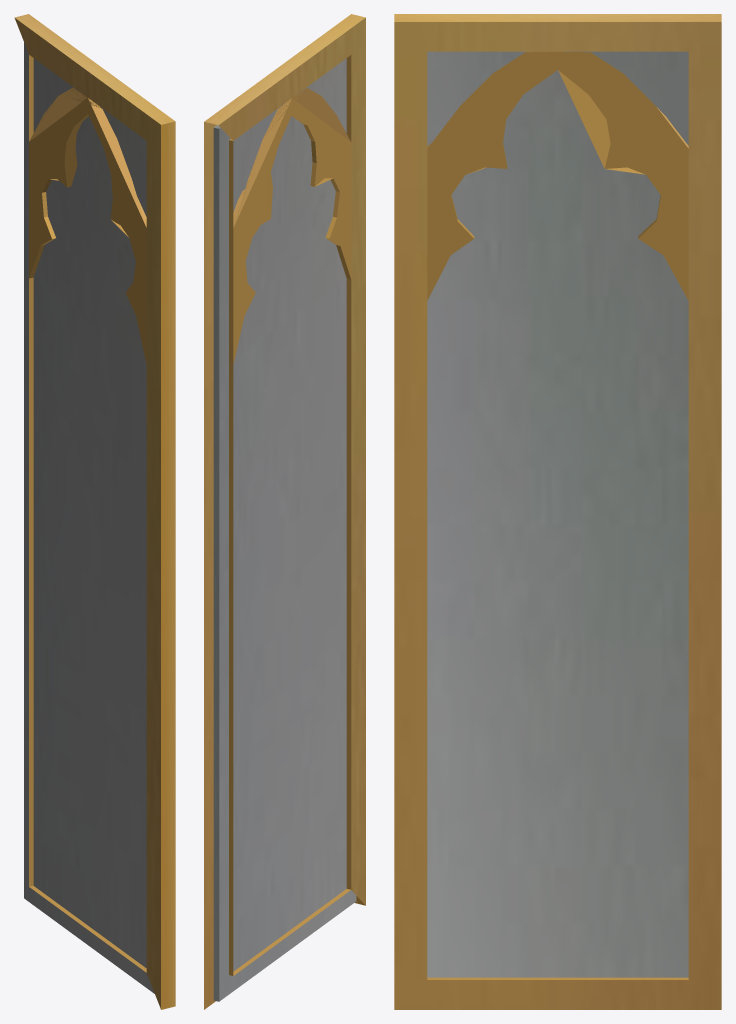
File: espelho the tower.fbx
3 renders of one model, left to right at view 1: azimuth 30°, elevation 25°; view 2: azimuth 150°, elevation 25°; view 3: azimuth 270°, elevation 25°, orthographic. The views are drawn at different scales.
Parts seen in each view (by area): view 1: vrido, frame; view 2: vrido, frame; view 3: vrido, frame.
Part boxes in pixels (x1=…): vrido: x1=24, y1=42, x2=154, y2=993; frame: x1=14, y1=14, x2=175, y2=1009; vrido: x1=213, y1=58, x2=356, y2=1001; frame: x1=204, y1=14, x2=365, y2=1009; vrido: x1=427, y1=51, x2=688, y2=977; frame: x1=394, y1=14, x2=721, y2=1009.
Bounding box in the file's own units: 10.31 × 605 × 182.
2 materials, 2 textured.
